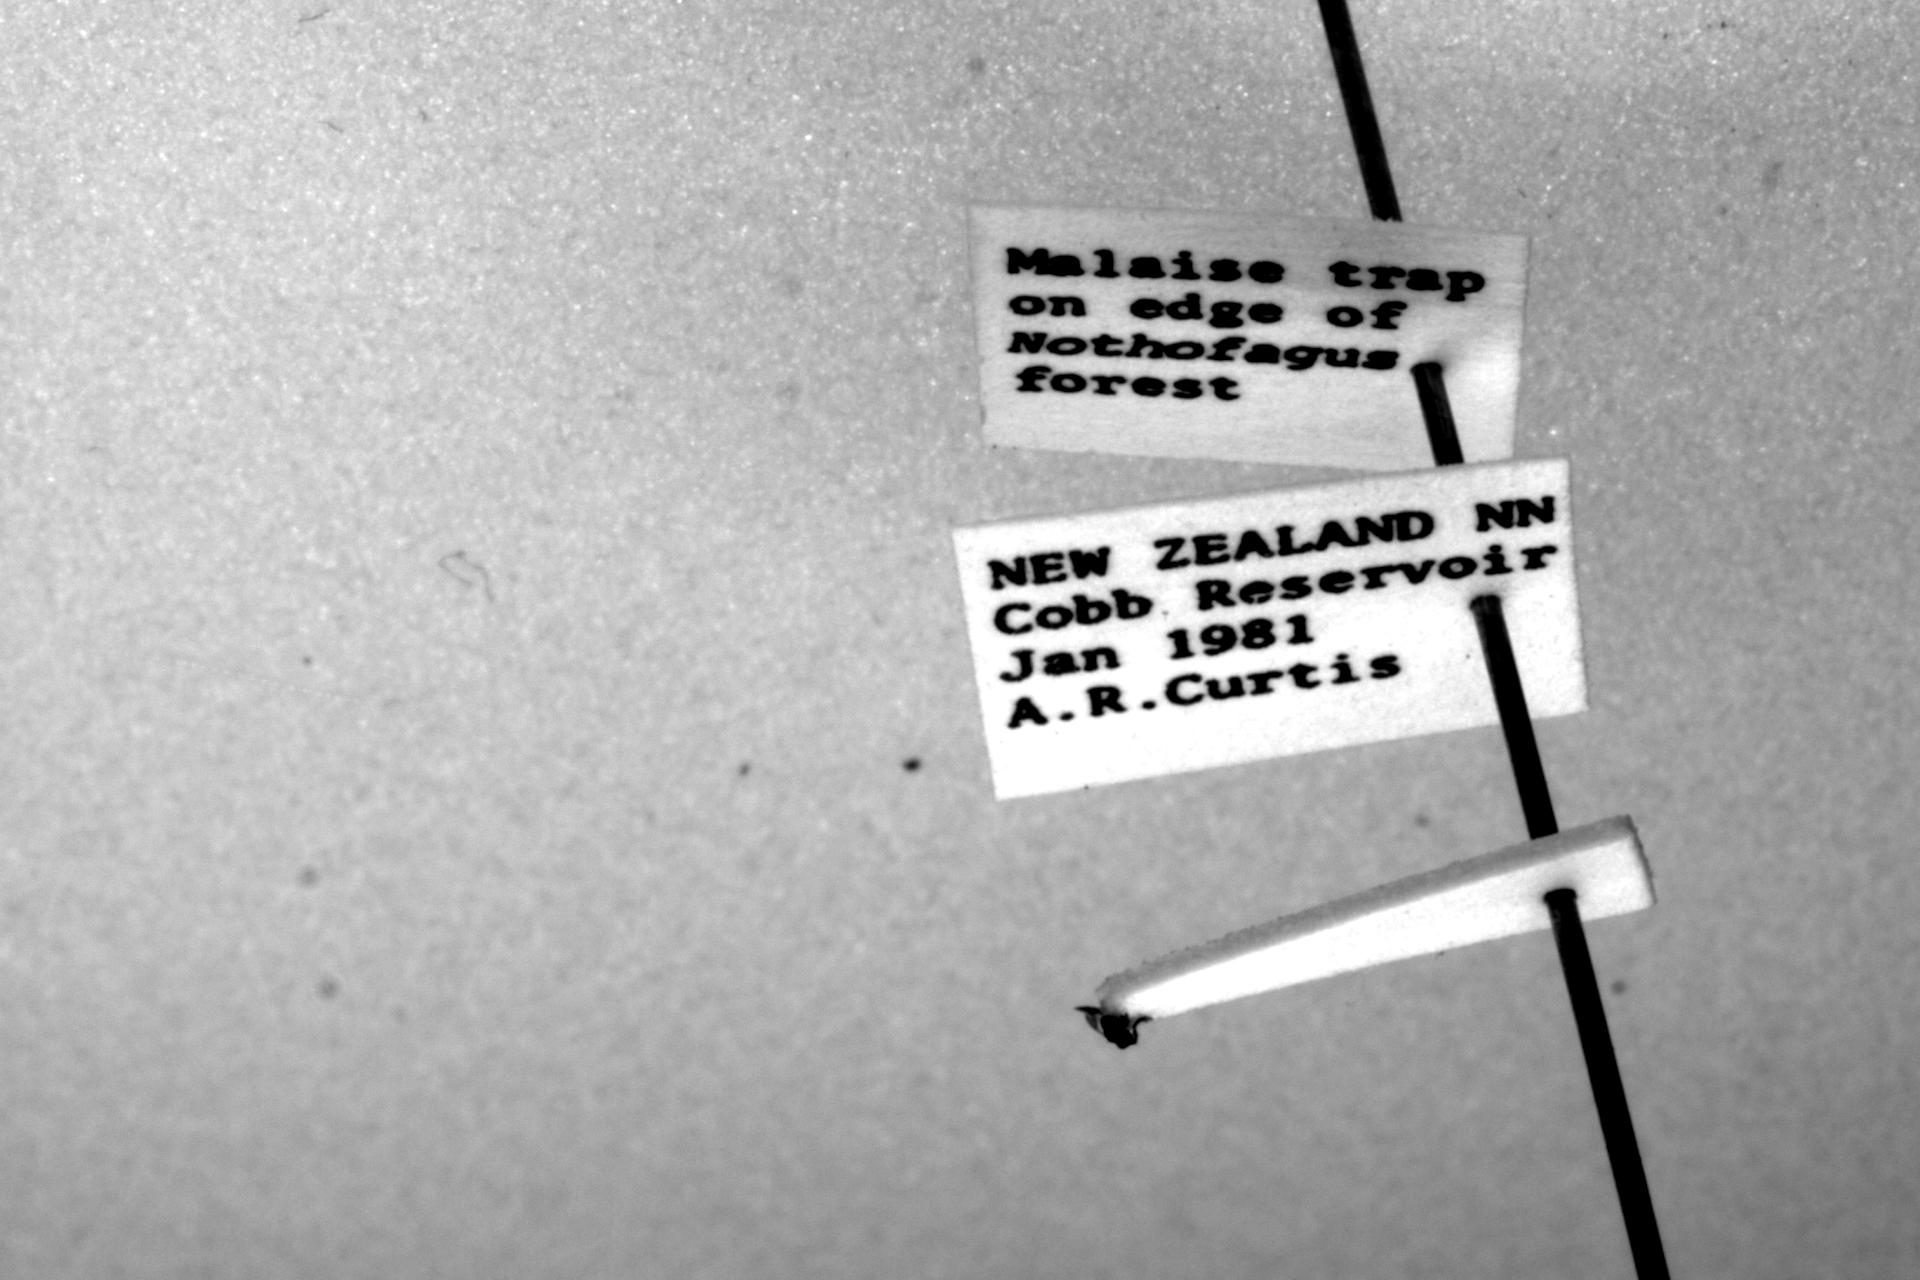typed_label: (952, 461, 1586, 799), (968, 202, 1530, 472)
